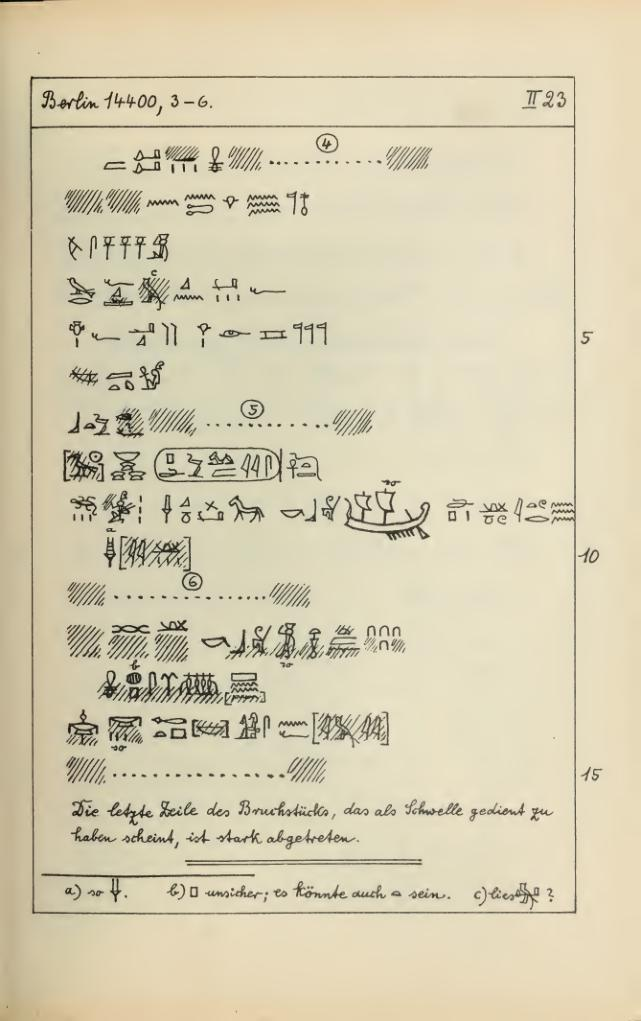circle: (153, 446, 290, 485)
